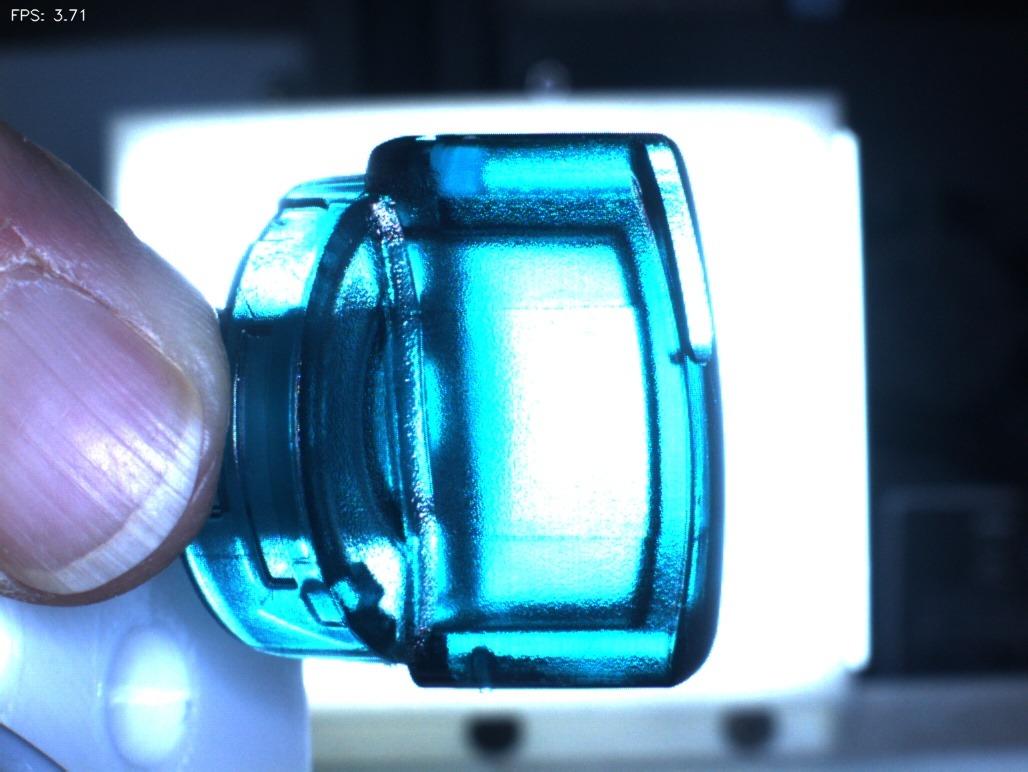Bulle: (438, 620, 531, 719)
